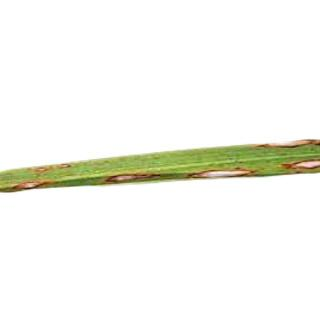Blast: (8, 161, 77, 197), (270, 136, 320, 178), (191, 162, 269, 188), (104, 164, 151, 188)
